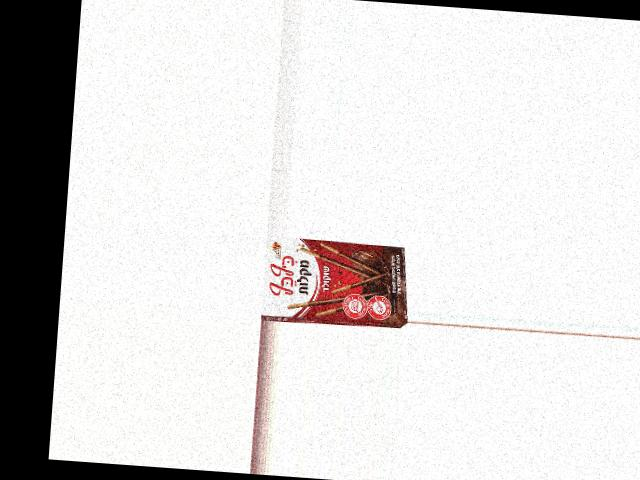chocolate: (261, 235, 403, 328)
